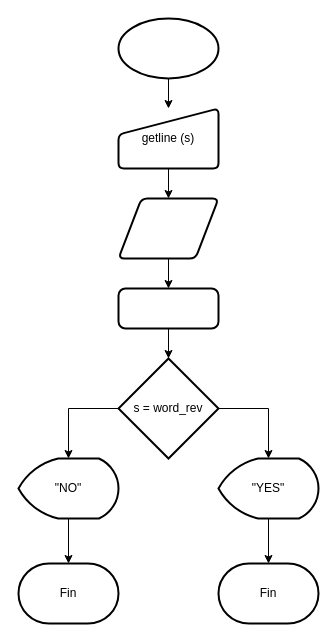
Some shapes in this 336 by 641 pixel diagram are drawn without their labels. The centre of each missing label's shape, as x and y in pixels:
"Inicio" goes at point (168, 48).
"reverse word_rev" goes at point (168, 308).
"word_rev = s" goes at point (168, 228).
